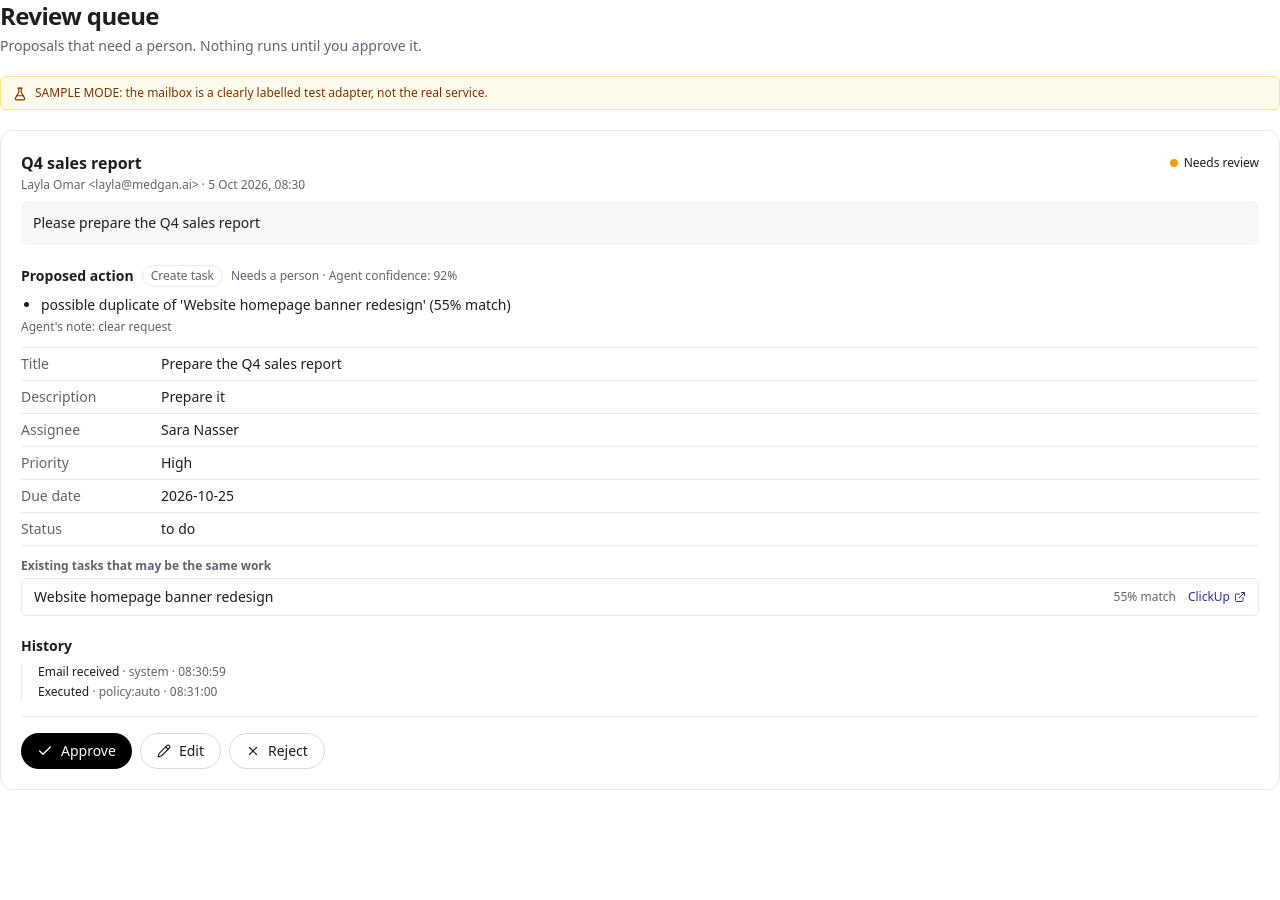
it: ReviewView › shows the server's reasons when an edit is rejected
Click the button "Edit" at coordinates (180, 751), box 140,733 -> 221,769
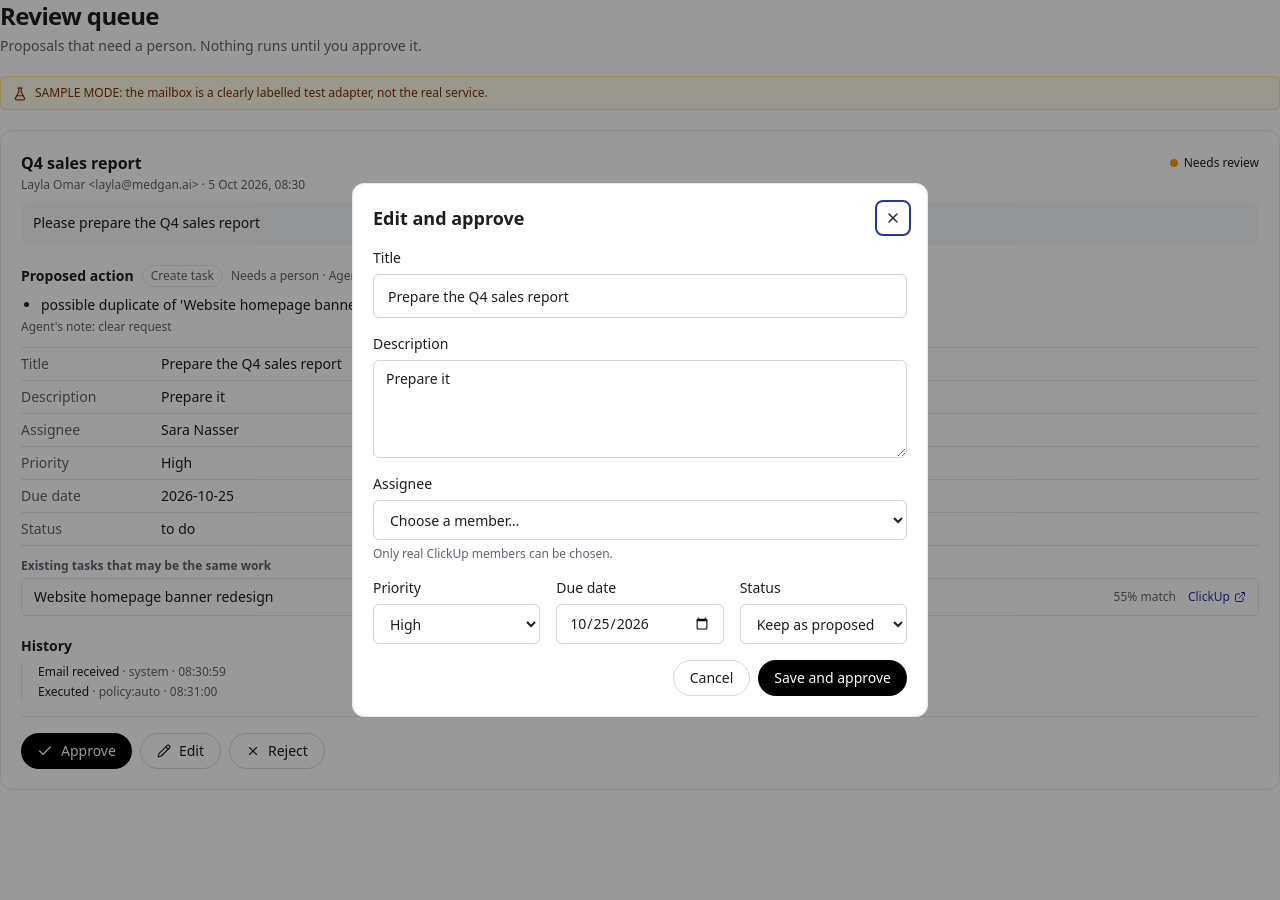
Click the button "Save and approve" at coordinates (833, 678), box 758,660 -> 907,696
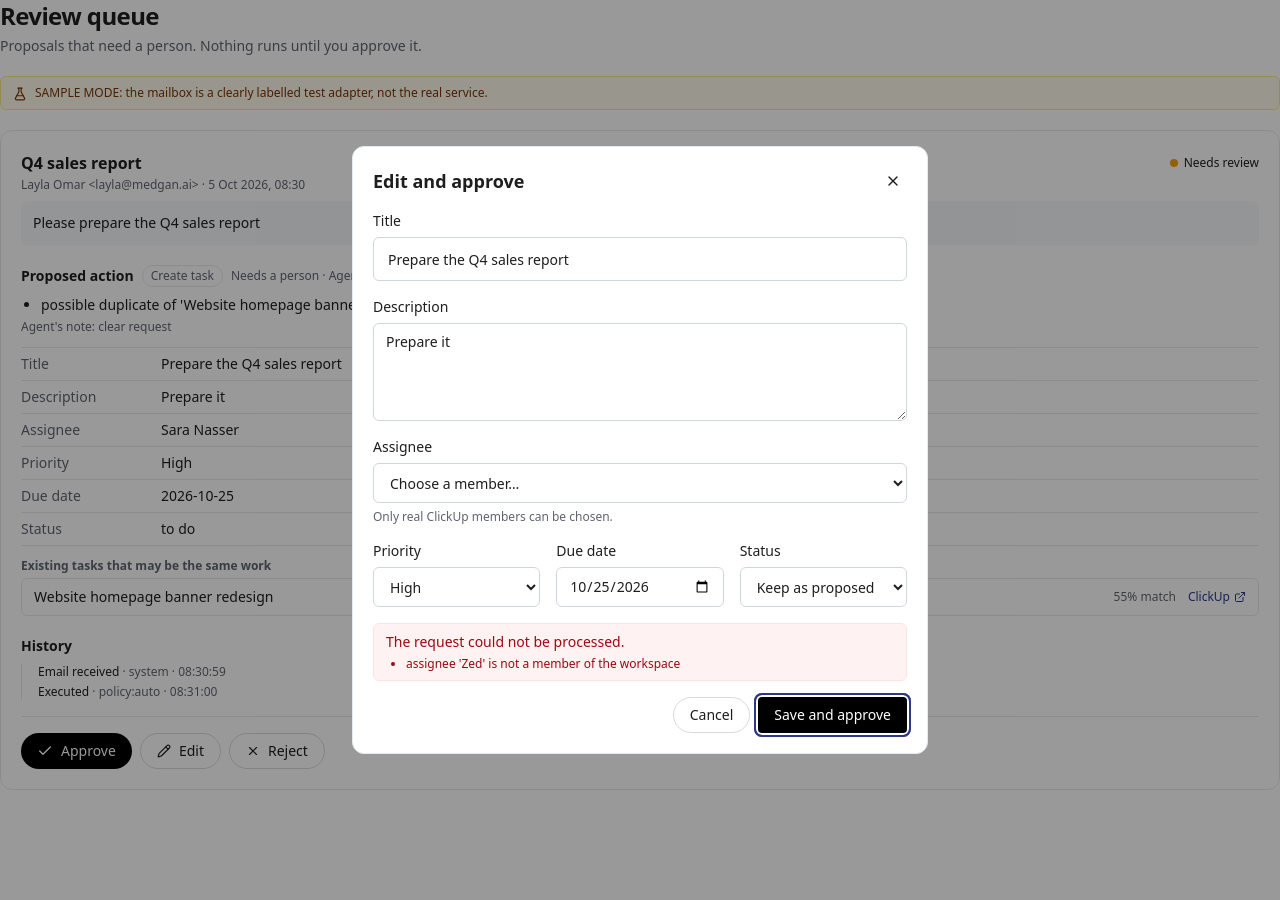
Result: the list item "assignee 'Zed' is not a member of the workspace" is shown at 406,655 -> 680,672
